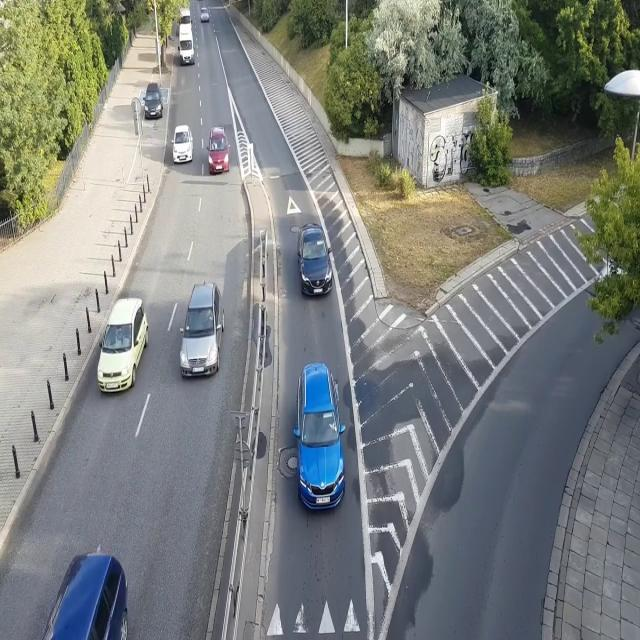car: (293, 364, 347, 512), (40, 552, 128, 640), (96, 295, 149, 395), (178, 282, 225, 379), (296, 224, 333, 296), (206, 126, 230, 175), (171, 124, 194, 163), (143, 83, 163, 119), (200, 7, 209, 23)
van: (178, 24, 195, 67), (178, 7, 192, 33)
